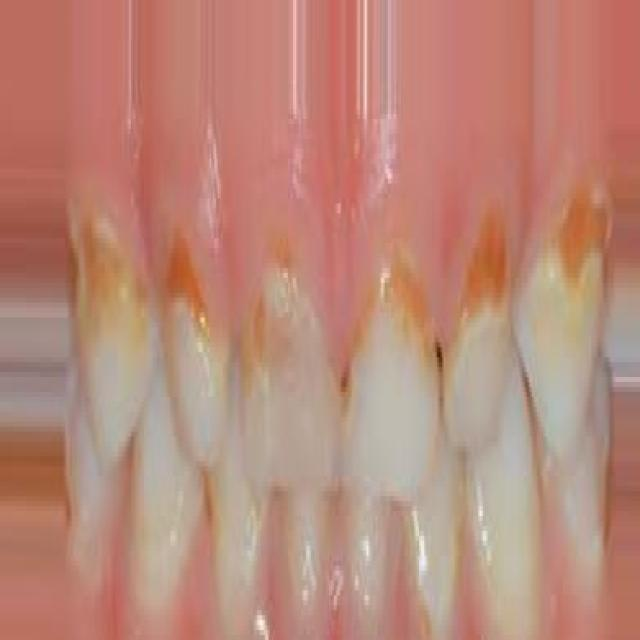caries: (536, 166, 618, 406), (438, 192, 513, 444), (69, 217, 151, 435), (233, 225, 307, 422), (160, 210, 230, 396), (364, 225, 435, 379)
